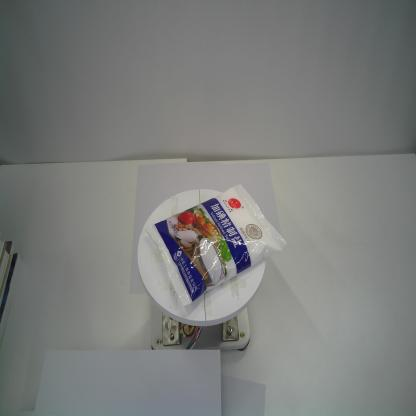Seasoner: (142, 183, 290, 308)
